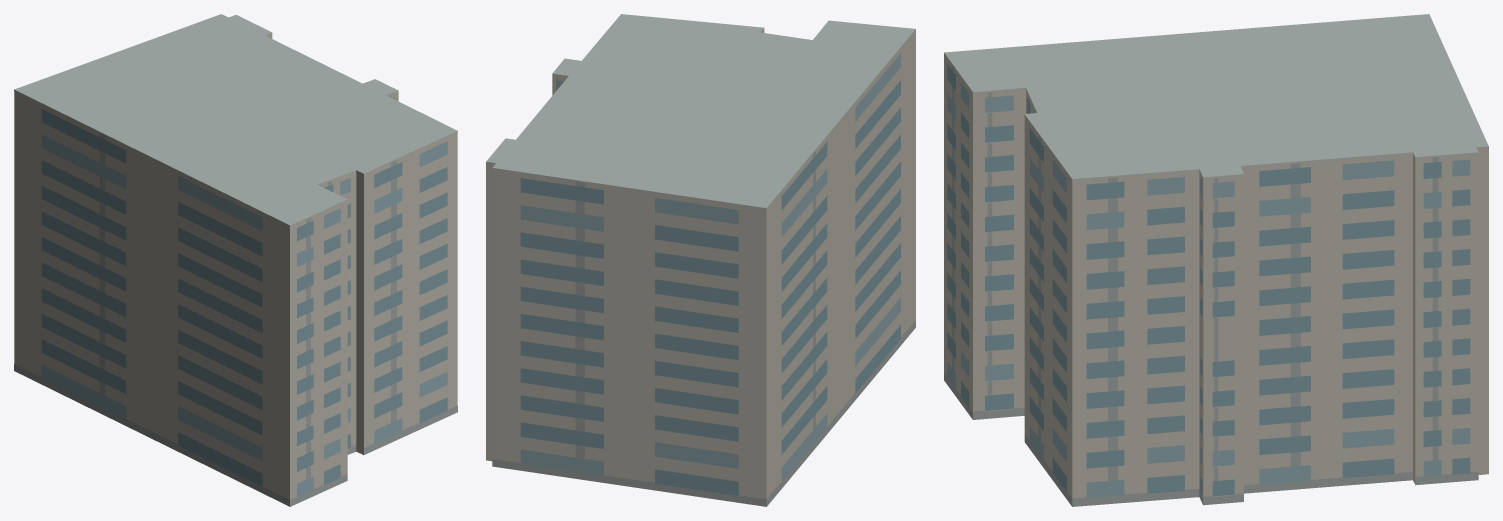
File: survey-upis-32978078.glb
The picture shows the model from 3 angles, left to right: view 1: azimuth 30°, elevation 25°; view 2: azimuth 150°, elevation 25°; view 3: azimuth 270°, elevation 25°; orthographic projection. The views are drawn at different scales.
Visible parts, largest first — view 1: survey-upis-32978078.tmp; view 2: survey-upis-32978078.tmp; view 3: survey-upis-32978078.tmp.
Part boxes in pixels (x1,y1,x2,y2): survey-upis-32978078.tmp: [14, 14, 457, 506]; survey-upis-32978078.tmp: [486, 14, 915, 506]; survey-upis-32978078.tmp: [944, 14, 1488, 506].
Size of the model in its own units: 45.68 by 42.3 by 63.72.
